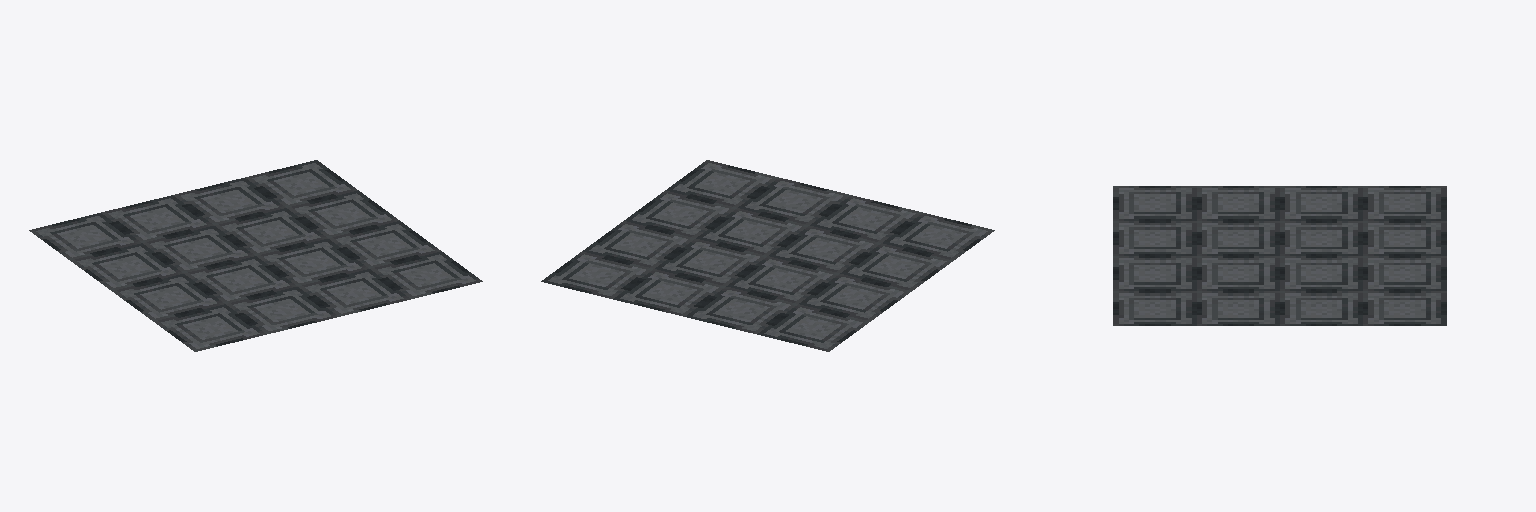
The picture shows the model from 3 angles: view 1: azimuth 30°, elevation 25°; view 2: azimuth 150°, elevation 25°; view 3: azimuth 270°, elevation 25°; orthographic projection.
Visible parts, largest first — view 1: cube; view 2: cube; view 3: cube.
Part boxes in pixels (x1,y1,x2,y2): cube: (29,160,482,351); cube: (541,160,994,351); cube: (1113,186,1446,325).
Bounding box in the file's own units: 1 × 0 × 1.
1 materials, 1 textured.